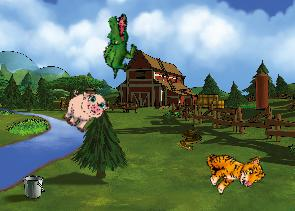crocodile: (91, 11, 145, 79)
pig: (57, 82, 111, 138)
tiger: (200, 138, 267, 200)
